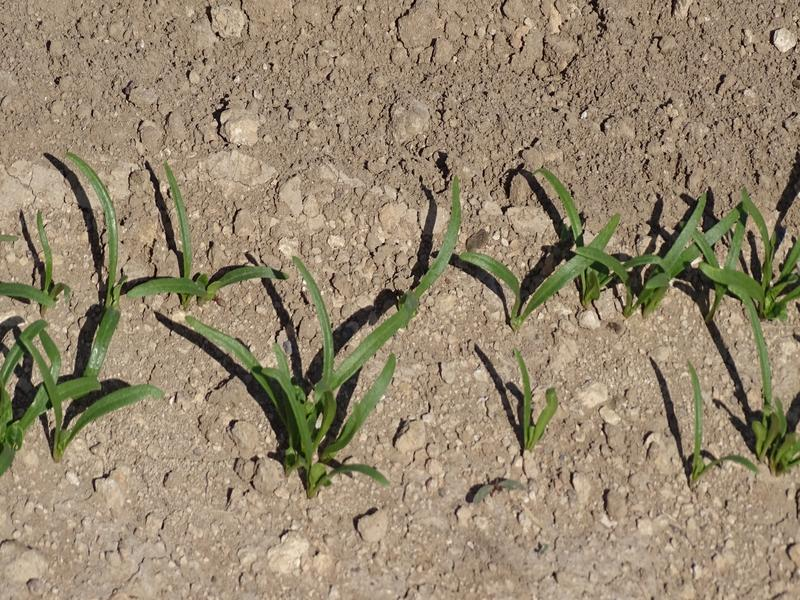Espinaca: (145, 177, 460, 492), (470, 178, 800, 315), (1, 163, 129, 470), (736, 318, 800, 466), (681, 373, 752, 482), (506, 356, 563, 443)
